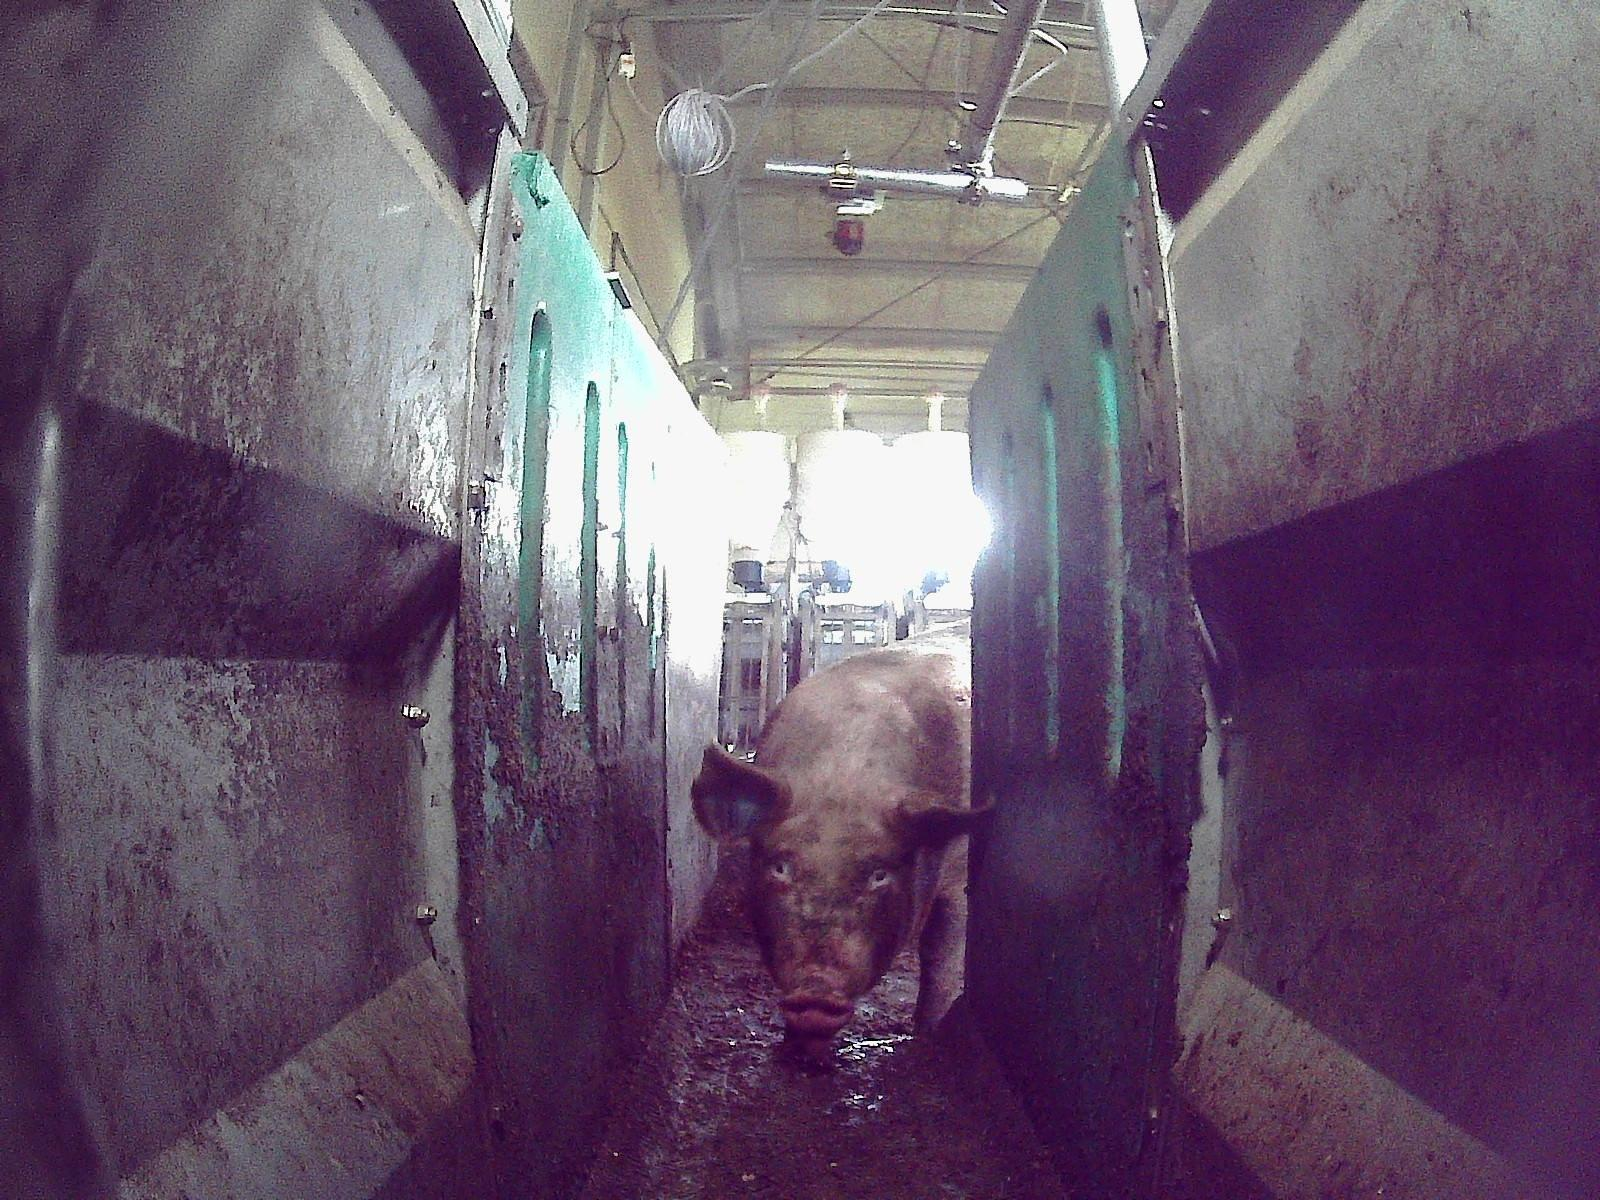Face: (744, 796, 916, 1030)
